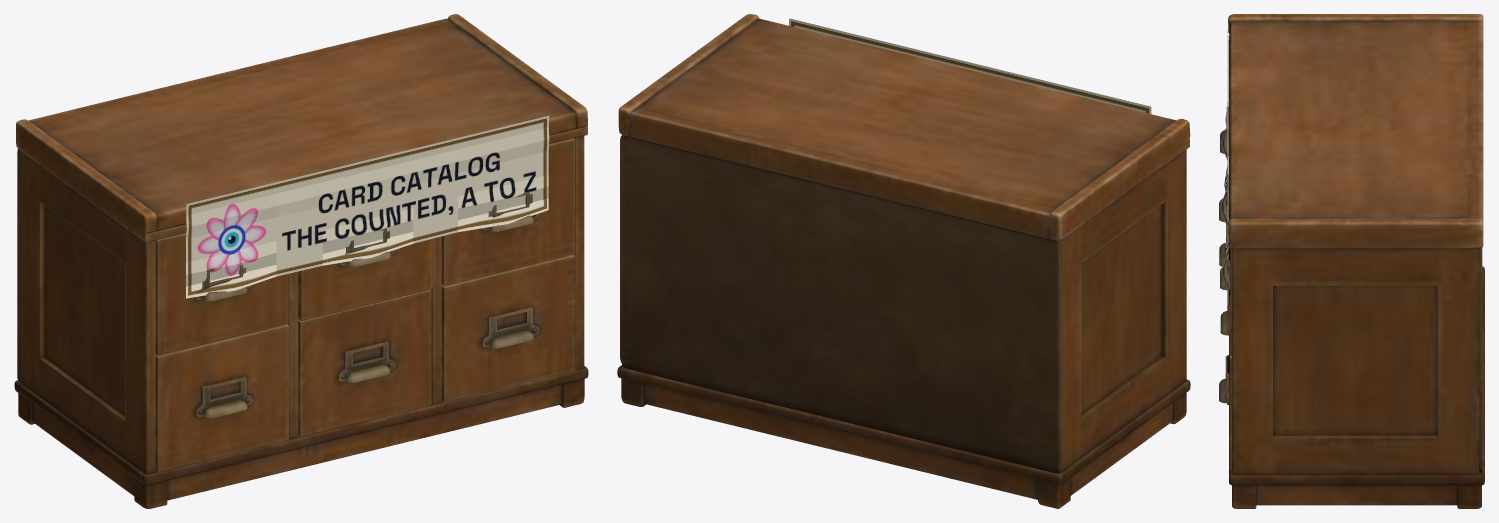
File: catalog.glb
3 views of the same model, side by side, from view 1: azimuth 30°, elevation 25°; view 2: azimuth 150°, elevation 25°; view 3: azimuth 270°, elevation 25° (orthographic). The views are drawn at different scales.
Parts seen in each view (by area): view 1: vintage_wooden_drawer_01_body; view 2: vintage_wooden_drawer_01_body; view 3: vintage_wooden_drawer_01_body.
Boxes of the visible parts, x1=… form: vintage_wooden_drawer_01_body: x1=14, y1=14, x2=588, y2=508; vintage_wooden_drawer_01_body: x1=617, y1=14, x2=1190, y2=508; vintage_wooden_drawer_01_body: x1=1219, y1=14, x2=1484, y2=508.
Size of the model in its own units: 0.8576 by 0.5511 by 0.4574.
Materials: 2 (2 with a texture image).
